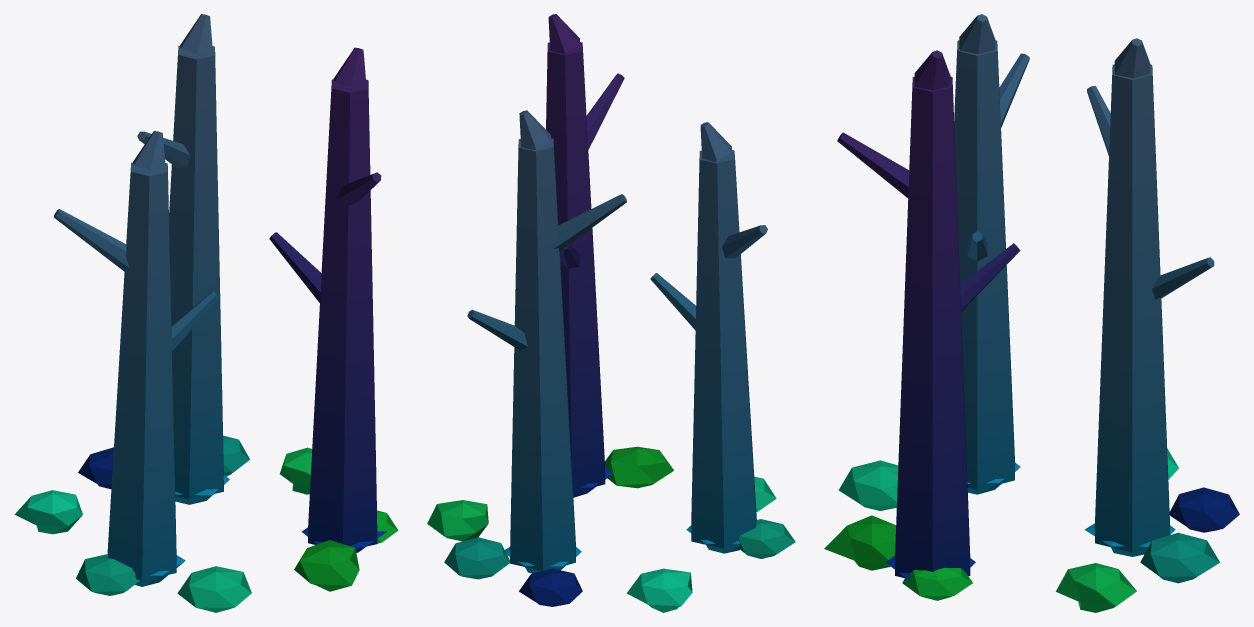
File: charred_04.glb
The picture shows the model from 3 angles, left to right: view 1: azimuth 30°, elevation 25°; view 2: azimuth 150°, elevation 25°; view 3: azimuth 270°, elevation 25°; orthographic projection. The views are drawn at different scales.
Parts seen in each view (by area): view 1: charred_04; view 2: charred_04; view 3: charred_04.
Boxes of the visible parts, x1,y1,x2,y2 form: charred_04: (15, 14, 398, 612); charred_04: (427, 14, 795, 612); charred_04: (824, 14, 1239, 612).
Bounding box in the file's own units: 0.8482 × 1.29 × 0.8952.
